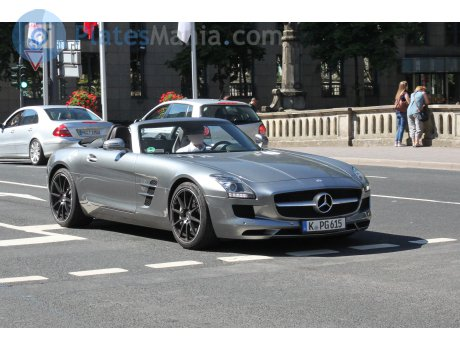License Plates: (303, 217, 345, 227)
